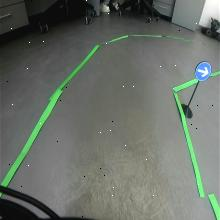right: (195, 61, 211, 82)
